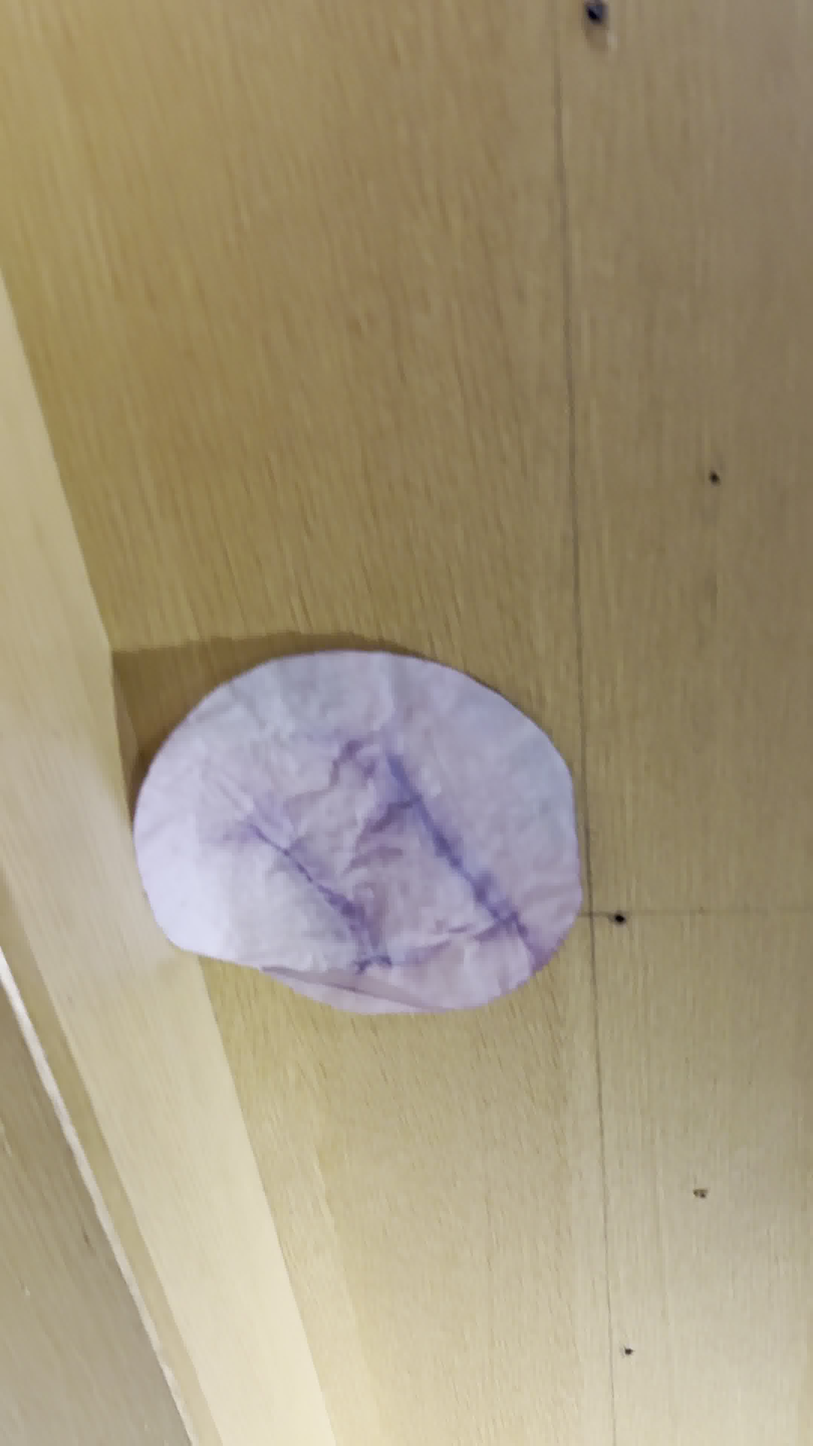Target: (133, 649, 585, 1012)
